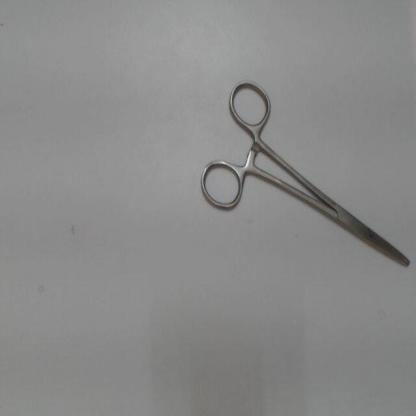Mayo Needle Holder: (192, 70, 414, 283)
